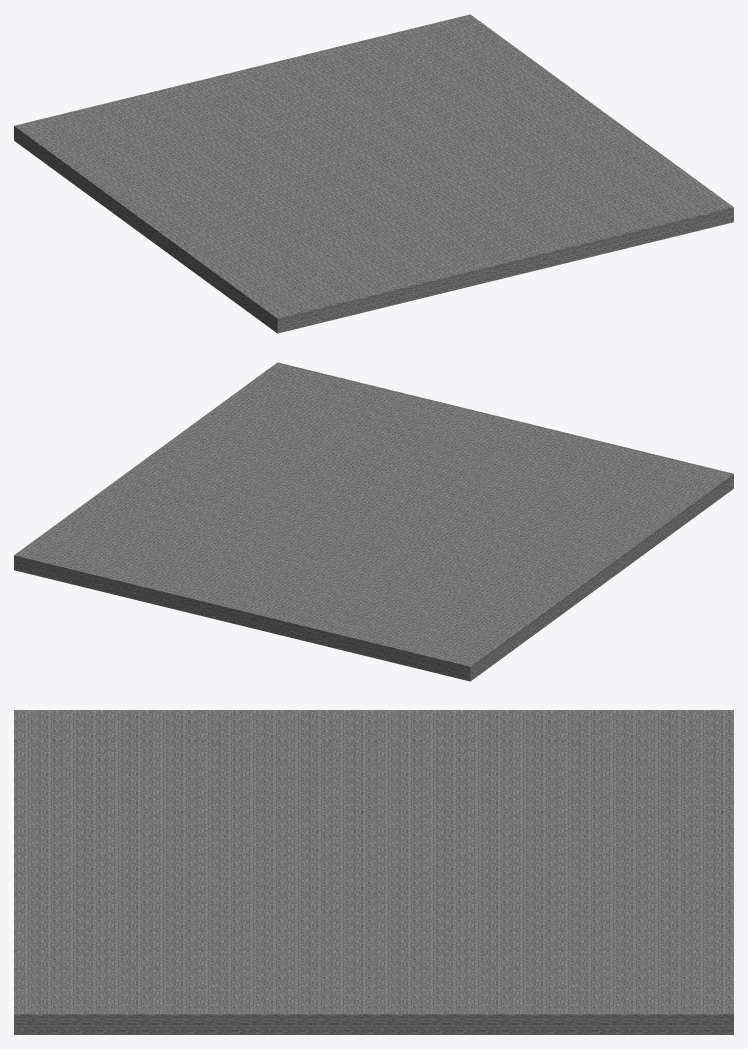
The model's file is chao-pedra.fbx.
The picture shows the model from 3 angles, top to bottom: view 1: azimuth 30°, elevation 25°; view 2: azimuth 150°, elevation 25°; view 3: azimuth 270°, elevation 25°; orthographic projection. The views are drawn at different scales.
Parts seen in each view (by area): view 1: Cube; view 2: Cube; view 3: Cube.
Boxes of the visible parts, bbox=[...] form: Cube: bbox=[14, 14, 733, 333]; Cube: bbox=[14, 362, 733, 681]; Cube: bbox=[14, 710, 733, 1034].
Bounding box in the file's own units: 3200 × 100 × 3200.
